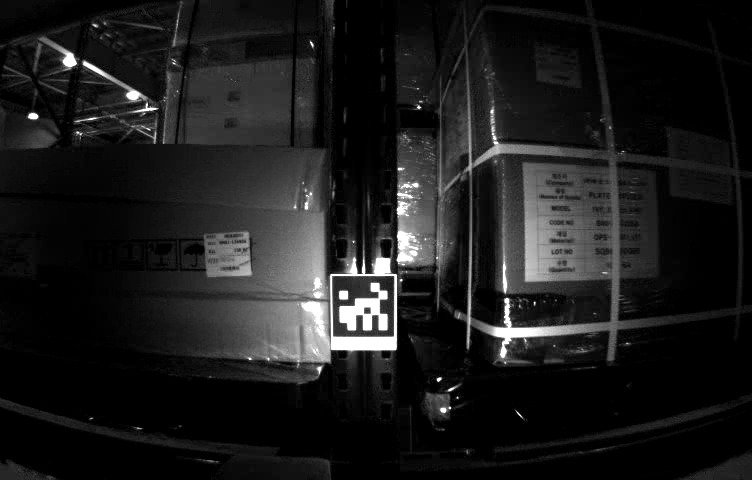True Barcode: (201, 231, 253, 278), (530, 41, 581, 86)
